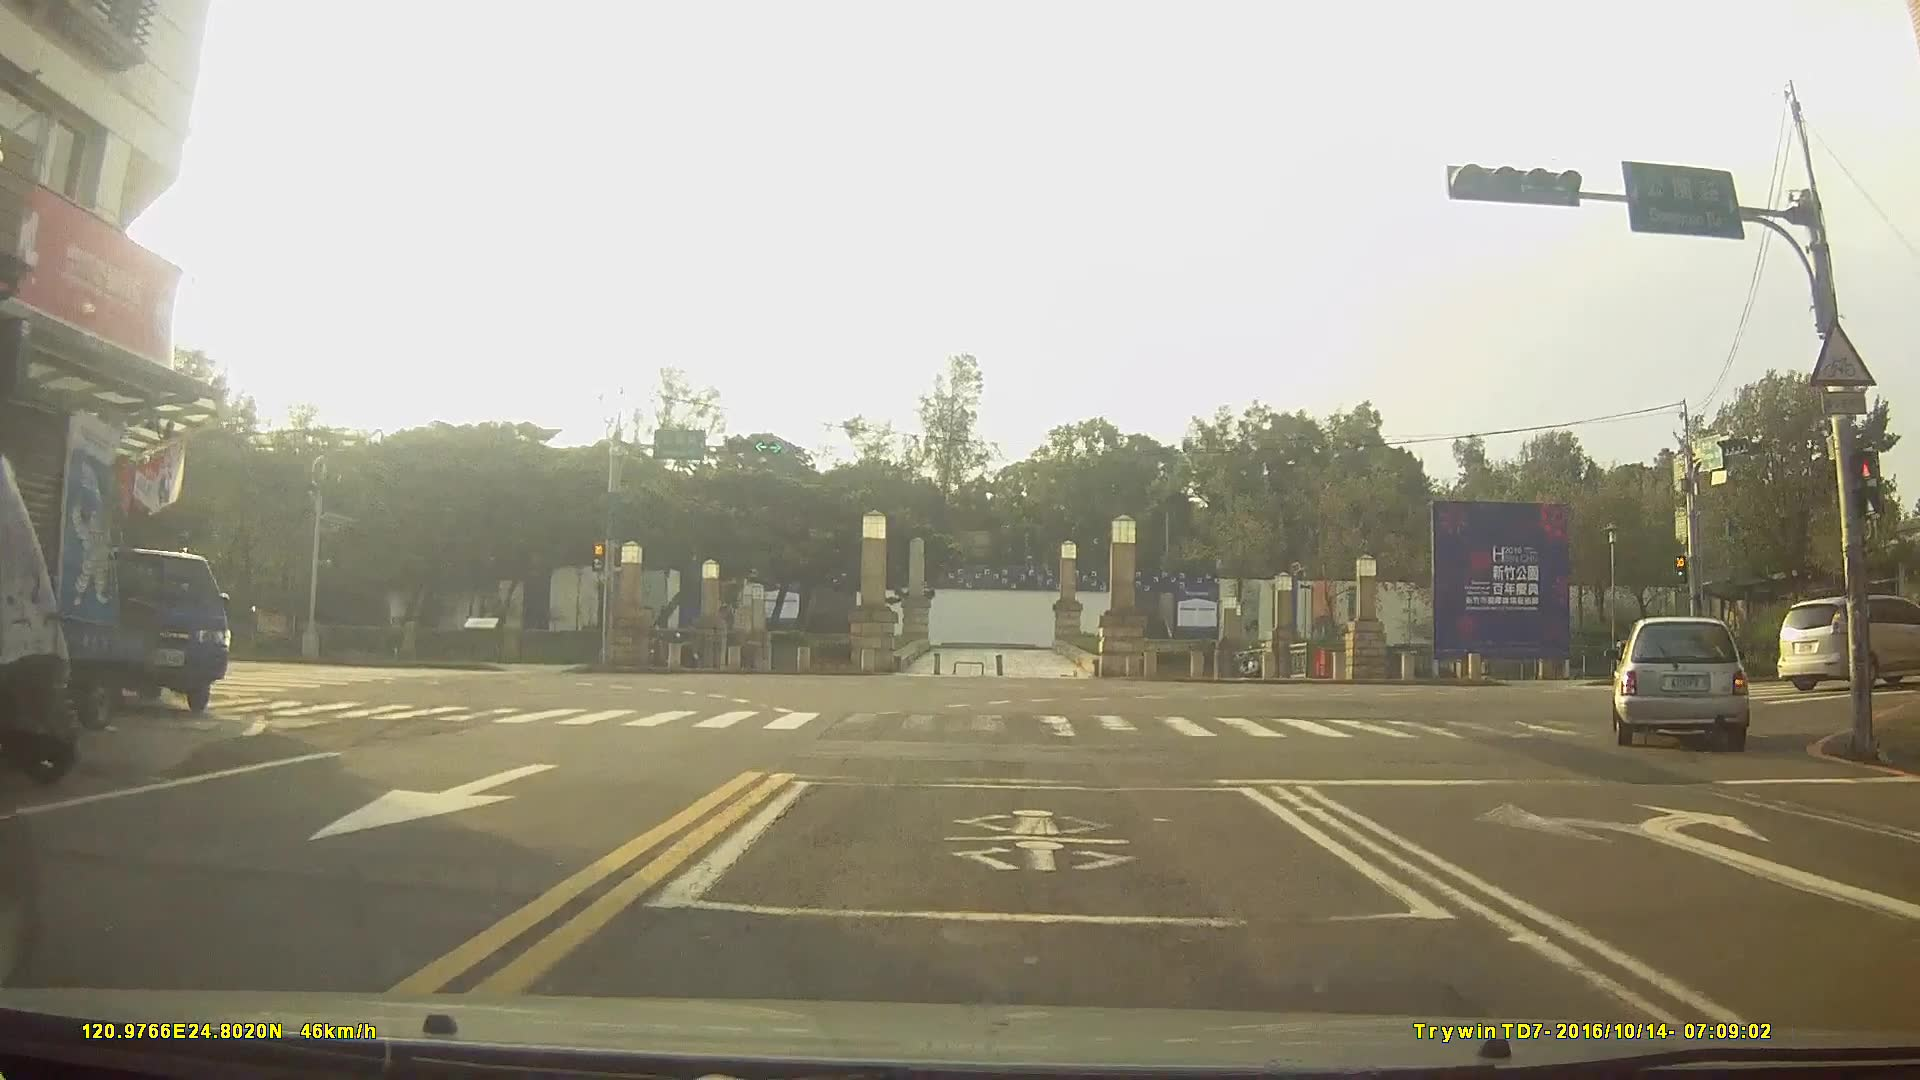vehicle: (107, 541, 229, 713), (1609, 615, 1749, 745), (1776, 593, 1920, 690)
